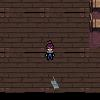Victim: (43, 39, 56, 60)
Win: (48, 75, 62, 92)
